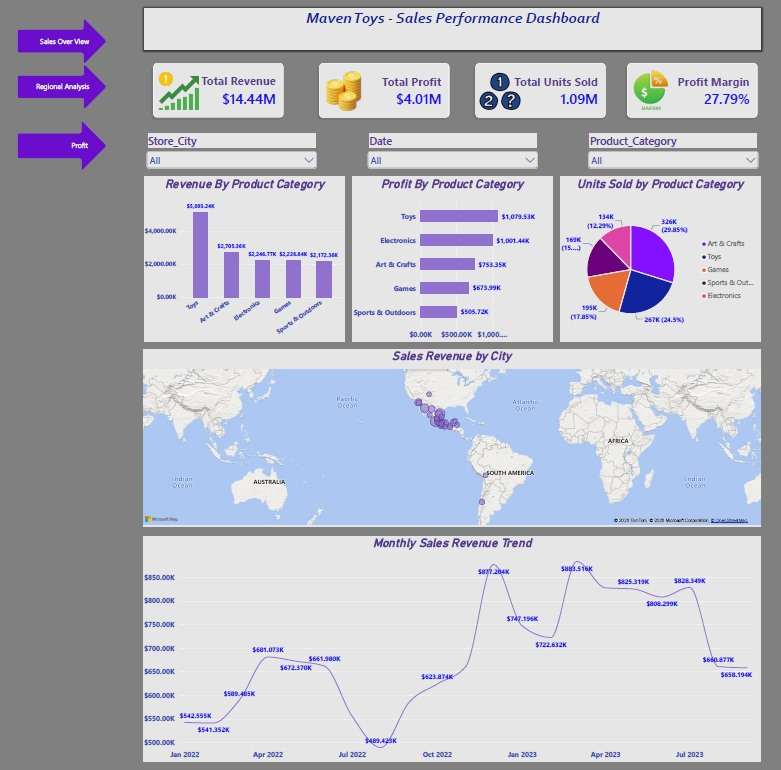

The dashboard page shown, as its layout file describes it:
{"tool":"powerbi","page":{"name":"Page 1","canvas":[1920,1080],"ordinal":0},"visuals":[{"type":"cardVisual","title":"Total Revenue","fields":{"Data":["Sales Analysis Data.Total Revenue"]},"box":[10,0,280,280],"z":0},{"type":"cardVisual","title":"Total Profit","fields":{"Data":["Sales Analysis Data.Total Profit"]},"box":[290,0,280,280],"z":1000},{"type":"cardVisual","title":"Total Units Sold","fields":{"Data":["Sales Analysis Data.Total Units Sold"]},"box":[570,0,280,280],"z":2000},{"type":"cardVisual","title":"Profit Margin","fields":{"Data":["Sales Analysis Data.Profit Margin"]},"box":[850,0,280,280],"z":3000},{"type":"clusteredColumnChart","title":"Revenue By Product Category","fields":{"Category":["Sales Analysis Data.Product_Category"],"Y":["Sales Analysis Data.Total Revenue"]},"box":[10,290,280,280],"z":4000},{"type":"clusteredBarChart","title":"Profit By Product Category","fields":{"Category":["Sales Analysis Data.Product_Category"],"Y":["Sales Analysis Data.Total Profit"]},"box":[300,290,410,280],"z":5000},{"type":"lineChart","title":"Monthly Sales Revenue Trend","fields":{"Category":["Sales Analysis Data.Date"],"Y":["Sales Analysis Data.Total Revenue"]},"box":[722.2,290,534.4,280],"z":6000},{"type":"clusteredBarChart","title":"Sales Revenue by City","fields":{"Category":["stores.Store_City"],"Y":["Sales Analysis Data.Total Revenue"]},"box":[10,580,1016.7,500],"z":7000}]}

Visuals, with their boxes on the page's 1920x1080 design canvas (x1, y1, x2, y2). These are canvas units, not pixel positions in the 781x770 screenshot, which may show the page scaled, cropped or inside an application window:
"Total Revenue" cardVisual: x1=10 y1=0 x2=290 y2=280
"Total Profit" cardVisual: x1=290 y1=0 x2=570 y2=280
"Total Units Sold" cardVisual: x1=570 y1=0 x2=850 y2=280
"Profit Margin" cardVisual: x1=850 y1=0 x2=1130 y2=280
"Revenue By Product Category" clusteredColumnChart: x1=10 y1=290 x2=290 y2=570
"Profit By Product Category" clusteredBarChart: x1=300 y1=290 x2=710 y2=570
"Monthly Sales Revenue Trend" lineChart: x1=722 y1=290 x2=1257 y2=570
"Sales Revenue by City" clusteredBarChart: x1=10 y1=580 x2=1027 y2=1080
